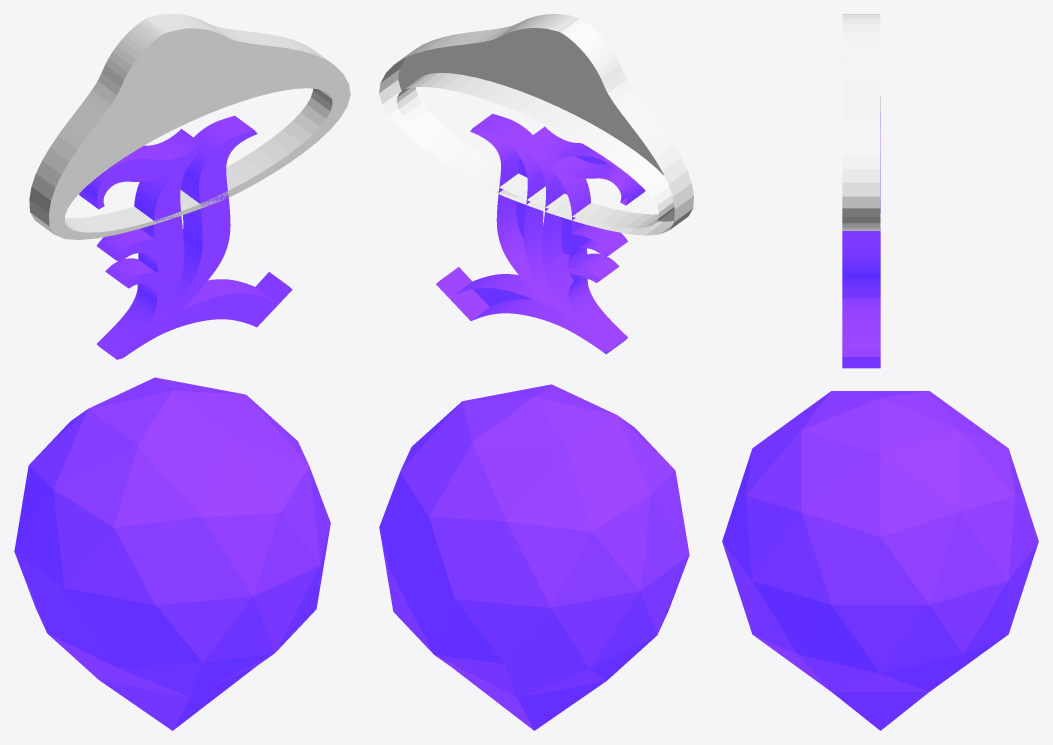
Rendered from checkpointLR.glb.
3 views of the same model, side by side, from view 1: azimuth 30°, elevation 25°; view 2: azimuth 150°, elevation 25°; view 3: azimuth 270°, elevation 25° (orthographic). The views are drawn at different scales.
Visible parts, largest first — view 1: Icosphere, Curve, Curve.001; view 2: Icosphere, Curve, Curve.001; view 3: Icosphere, Curve, Curve.001.
Part boxes in pixels (left/top/right/bottom): Icosphere: left=14, top=377, right=330, bottom=730; Curve: left=29, top=14, right=350, bottom=239; Curve.001: left=79, top=115, right=292, bottom=360; Icosphere: left=379, top=384, right=689, bottom=730; Curve: left=379, top=14, right=693, bottom=235; Curve.001: left=436, top=113, right=645, bottom=354; Icosphere: left=722, top=391, right=1038, bottom=730; Curve: left=842, top=14, right=880, bottom=230; Curve.001: left=842, top=112, right=880, bottom=368.
Bounding box in the file's own units: 2.15 × 4.91 × 2.
